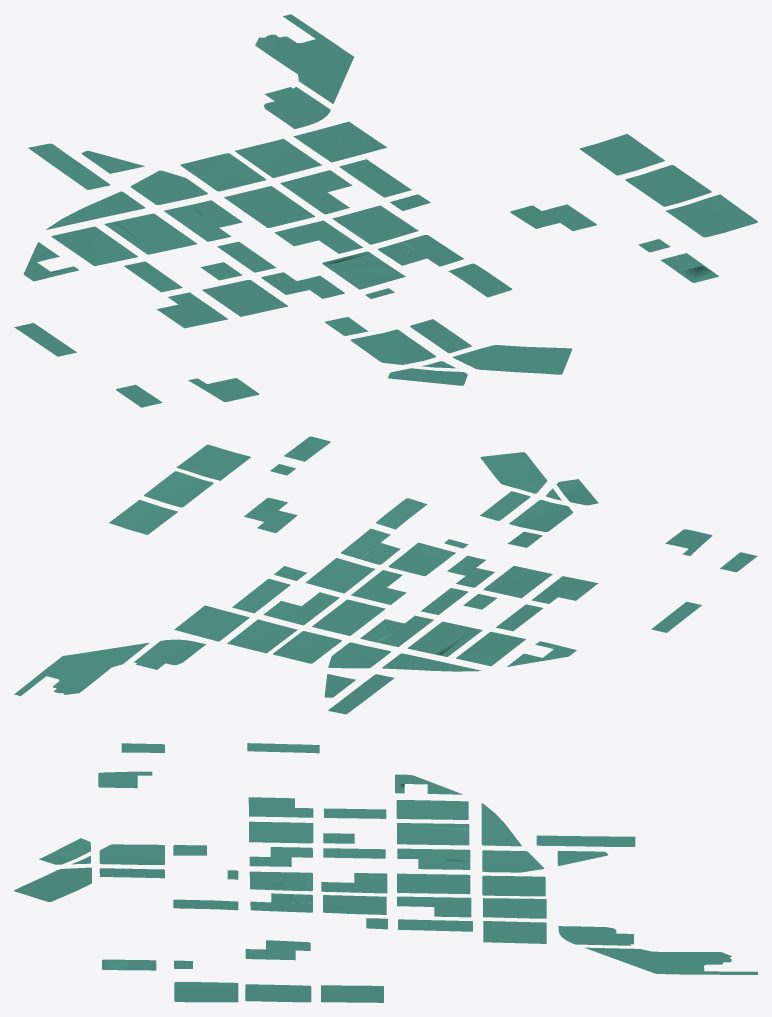
Rendered from VUL Land.FBX.
3 views of the same model, one above another, from view 1: azimuth 30°, elevation 25°; view 2: azimuth 150°, elevation 25°; view 3: azimuth 270°, elevation 25° (orthographic). The views are drawn at different scales.
Visible parts, largest first — view 1: VUL_4088803047_OLD2000Land, VUL_8729740000_OLD2000Land, VUL_1988201480_OLD2000Land, VUL_6849200005_2008Land, VUL_6849200065_OLD2000Land, VUL_1983200290_OLD2000Land, VUL_1986200035_OLD2000Land, VUL_1983200425_OLD2000Land, VUL_1983200325_2004Land, VUL_1986200185_OLD2000Land, VUL_4088803385_2004Land, VUL_4129320000_OLD2000Land (+26 smaller); view 2: VUL_4088803047_OLD2000Land, VUL_8729740000_OLD2000Land, VUL_1988201480_OLD2000Land, VUL_6849200005_2008Land, VUL_1983200290_OLD2000Land, VUL_6849200065_OLD2000Land, VUL_1983200425_OLD2000Land, VUL_1986200035_OLD2000Land, VUL_1983200325_2004Land, VUL_1986200185_OLD2000Land, VUL_4088803385_2004Land, VUL_4129320000_OLD2000Land (+25 smaller); view 3: VUL_4088803047_OLD2000Land, VUL_1988201480_OLD2000Land, VUL_8729740000_OLD2000Land, VUL_1986200035_OLD2000Land, VUL_1983200425_OLD2000Land, VUL_4088803385_2004Land, VUL_1983200290_OLD2000Land, VUL_1983200065_2004Land, VUL_6849200005_2008Land, VUL_1983200325_2004Land, VUL_6849200065_OLD2000Land, VUL_1986200185_OLD2000Land (+29 smaller).
Part boxes in pixels (x1=…): VUL_4088803047_OLD2000Land: x1=255, y1=14, x2=353, y2=103; VUL_8729740000_OLD2000Land: x1=453, y1=345, x2=572, y2=374; VUL_1988201480_OLD2000Land: x1=104, y1=213, x2=196, y2=254; VUL_6849200005_2008Land: x1=625, y1=165, x2=711, y2=206; VUL_6849200065_OLD2000Land: x1=579, y1=134, x2=664, y2=175; VUL_1983200290_OLD2000Land: x1=332, y1=205, x2=418, y2=244; VUL_1986200035_OLD2000Land: x1=350, y1=329, x2=435, y2=364; VUL_1983200425_OLD2000Land: x1=264, y1=87, x2=330, y2=128; VUL_1983200325_2004Land: x1=280, y1=170, x2=352, y2=214; VUL_1986200185_OLD2000Land: x1=322, y1=251, x2=405, y2=289; VUL_4088803385_2004Land: x1=130, y1=170, x2=207, y2=204; VUL_4129320000_OLD2000Land: x1=235, y1=139, x2=321, y2=171; VUL_4088803047_OLD2000Land: x1=14, y1=642, x2=149, y2=696; VUL_8729740000_OLD2000Land: x1=480, y1=452, x2=547, y2=493; VUL_1988201480_OLD2000Land: x1=407, y1=621, x2=482, y2=656; VUL_6849200005_2008Land: x1=144, y1=471, x2=213, y2=507; VUL_1983200290_OLD2000Land: x1=305, y1=558, x2=374, y2=593; VUL_6849200065_OLD2000Land: x1=109, y1=500, x2=177, y2=534; VUL_1983200425_OLD2000Land: x1=133, y1=639, x2=205, y2=669; VUL_1986200035_OLD2000Land: x1=509, y1=500, x2=572, y2=531; VUL_1983200325_2004Land: x1=263, y1=592, x2=339, y2=625; VUL_1986200185_OLD2000Land: x1=388, y1=542, x2=455, y2=575; VUL_4088803385_2004Land: x1=328, y1=642, x2=390, y2=668; VUL_4129320000_OLD2000Land: x1=227, y1=619, x2=286, y2=653; VUL_4088803047_OLD2000Land: x1=585, y1=947, x2=757, y2=974; VUL_1988201480_OLD2000Land: x1=397, y1=823, x2=469, y2=845; VUL_8729740000_OLD2000Land: x1=14, y1=867, x2=91, y2=901; VUL_1986200035_OLD2000Land: x1=99, y1=844, x2=164, y2=864; VUL_1983200425_OLD2000Land: x1=558, y1=926, x2=633, y2=945; VUL_4088803385_2004Land: x1=482, y1=850, x2=544, y2=872; VUL_1983200290_OLD2000Land: x1=323, y1=895, x2=386, y2=914; VUL_1983200065_2004Land: x1=397, y1=848, x2=470, y2=869; VUL_6849200005_2008Land: x1=245, y1=984, x2=311, y2=1002; VUL_1983200325_2004Land: x1=397, y1=896, x2=471, y2=917; VUL_6849200065_OLD2000Land: x1=321, y1=985, x2=383, y2=1002; VUL_1986200185_OLD2000Land: x1=249, y1=871, x2=312, y2=891.
Size of the model in its own units: 1096 by 37.44 by 1303.
